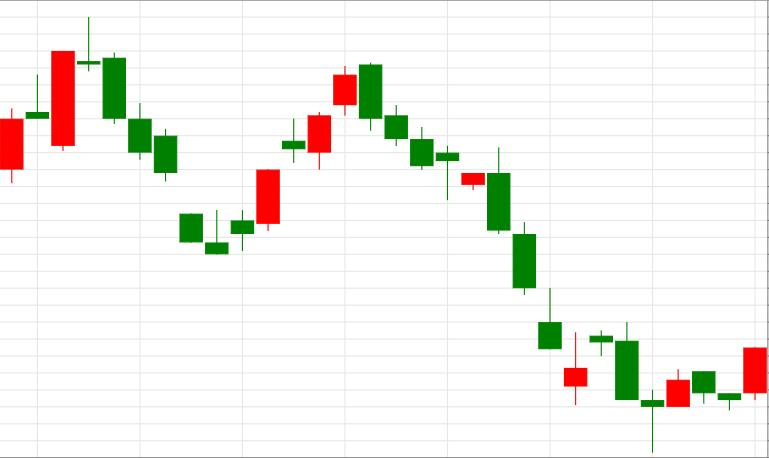bearish_engulfing_fall: (206, 62, 381, 254)
